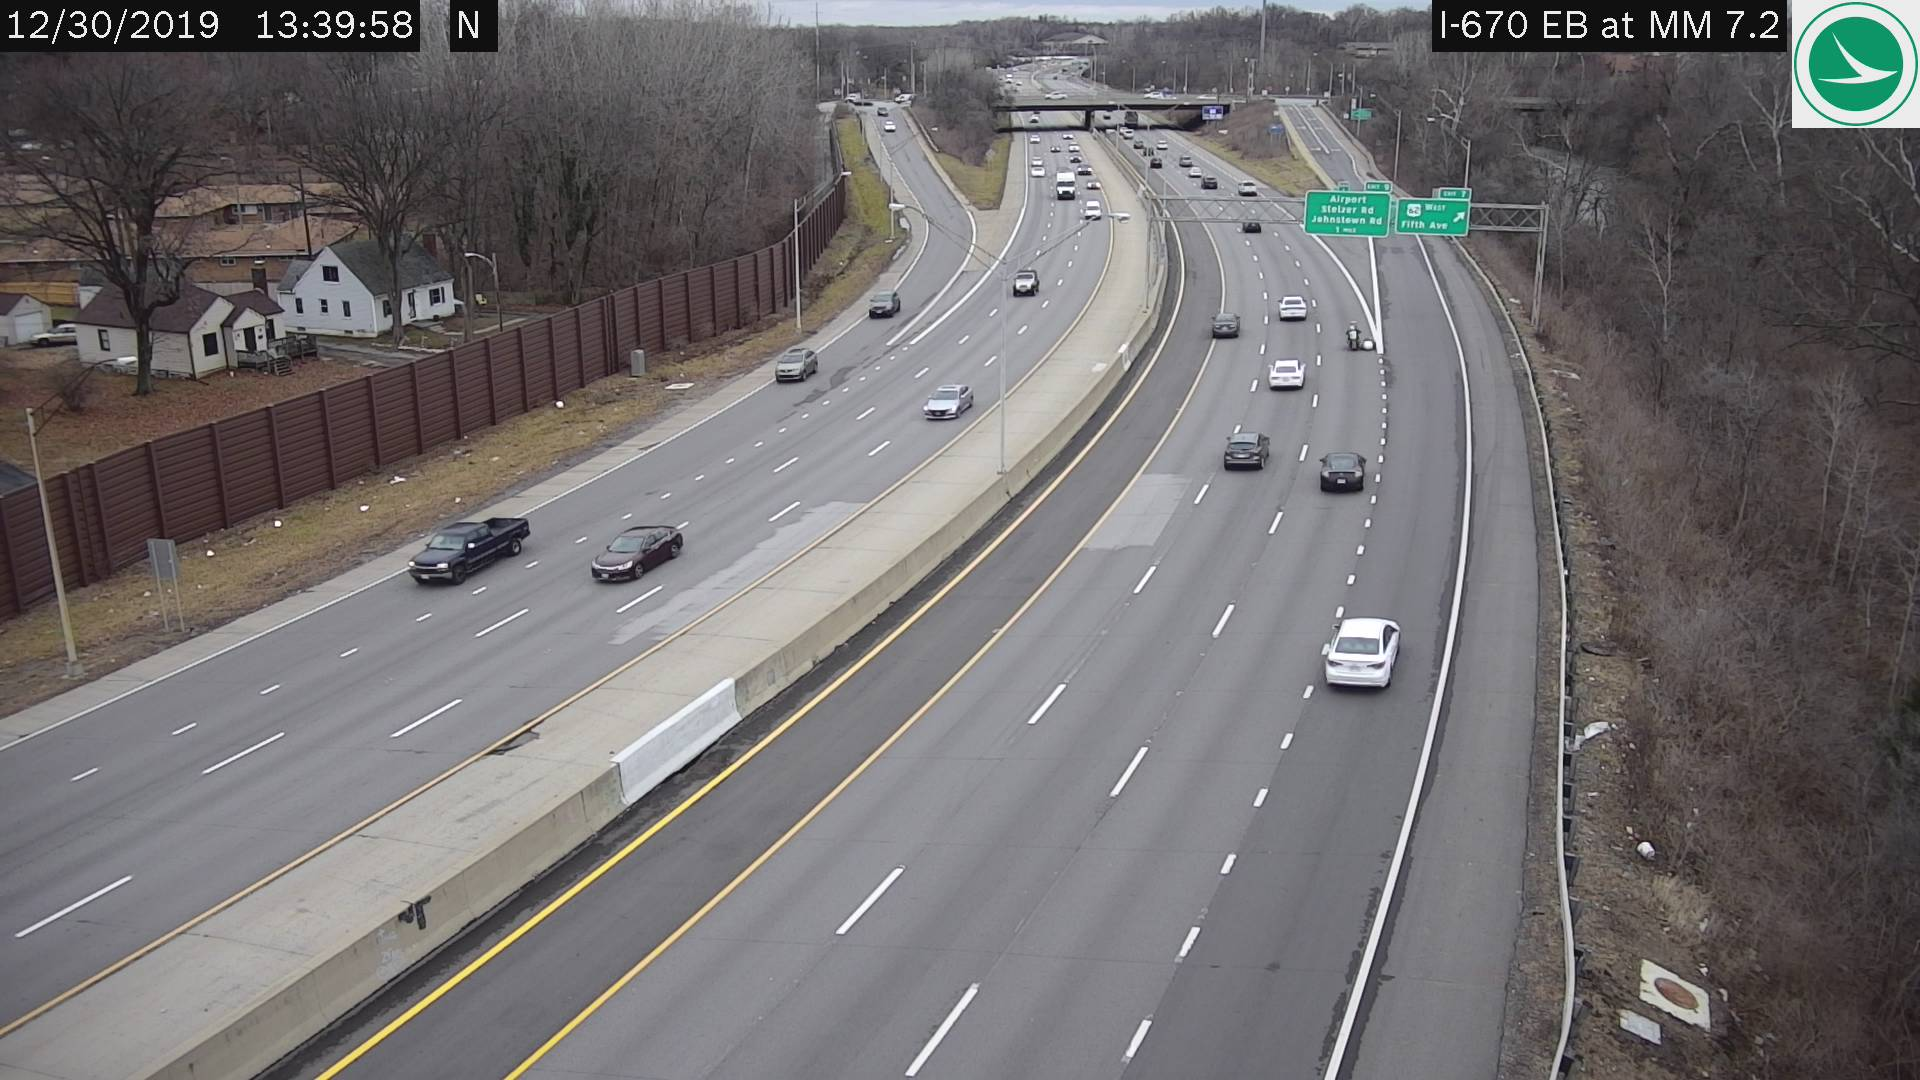car: (406, 512, 530, 584), (589, 524, 682, 584), (1323, 616, 1398, 684), (1317, 448, 1366, 492), (922, 380, 971, 419), (1222, 433, 1266, 472), (774, 348, 818, 380), (1270, 356, 1302, 392), (866, 287, 902, 316), (1278, 291, 1305, 320), (1211, 309, 1238, 336), (1055, 170, 1077, 202), (1014, 268, 1038, 291), (1085, 198, 1101, 220), (1237, 179, 1257, 196), (1201, 175, 1217, 189), (1244, 222, 1261, 233), (1075, 164, 1091, 174), (1179, 154, 1191, 166), (1031, 166, 1044, 175), (1087, 178, 1101, 186), (1189, 166, 1201, 175)
